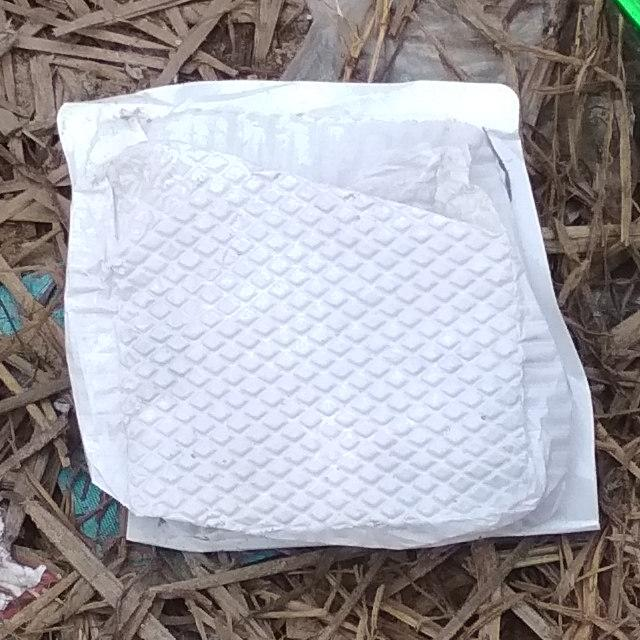plastic: (7, 48, 620, 567)
